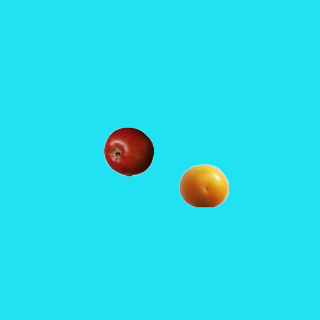Apple Braeburn: (103, 126, 153, 176)
Cherry Wax Yellow: (178, 160, 228, 210)
